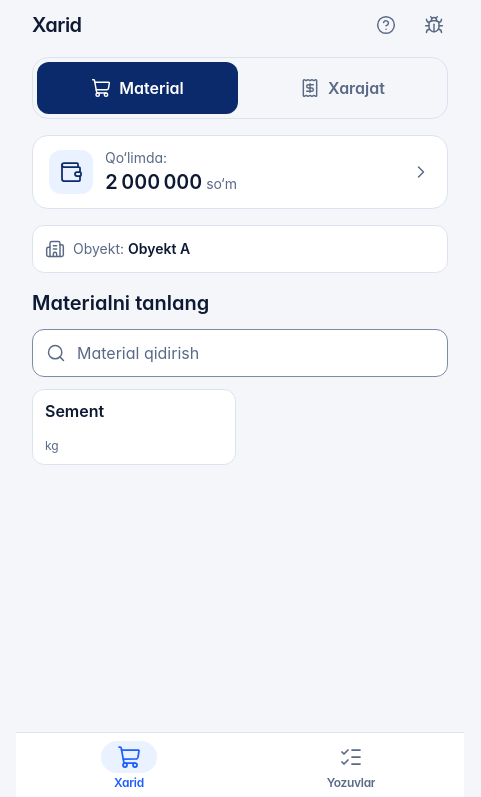
/tg/purchase — haydovchi, bitta obyekt › asosiy bo‘lmagan birlik — "= 150 kg" katta ko‘rsatiladi; asosiy birlikda — oddiy
Click the button "Sement kg" at coordinates (134, 427), box [32,389,236,465]
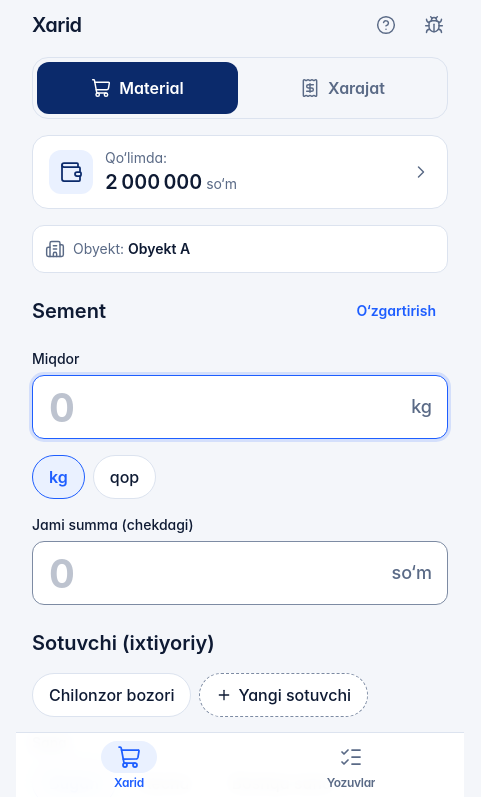
Type "3" into the field labelled "Miqdor" at coordinates (240, 407), box [32,375,448,439]
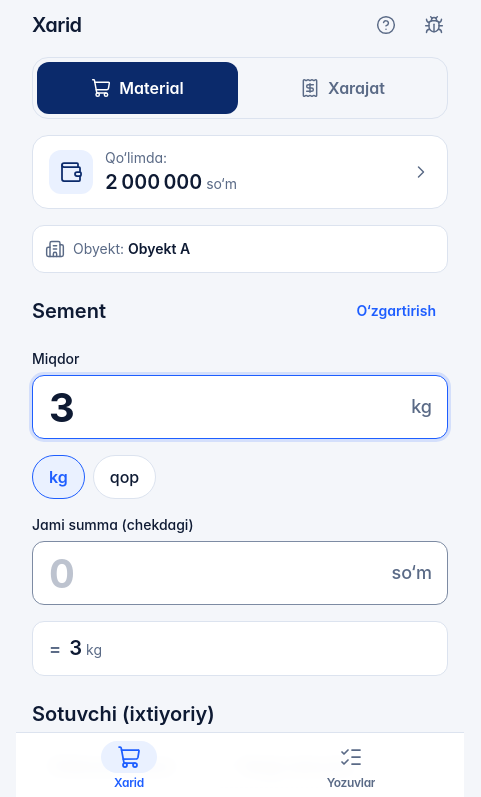
Click the button "qop" at coordinates (125, 477), box [93,455,156,499]
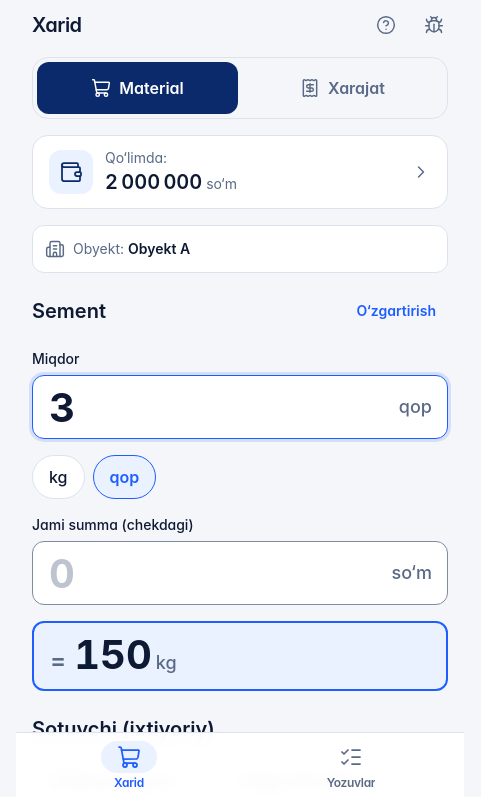
Expected: the element with test id "base-qty" reads "= 150 kg", [50,630,176,679]
